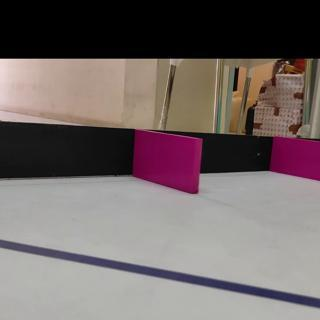xparking: (137, 139, 201, 190), (275, 139, 320, 178)
